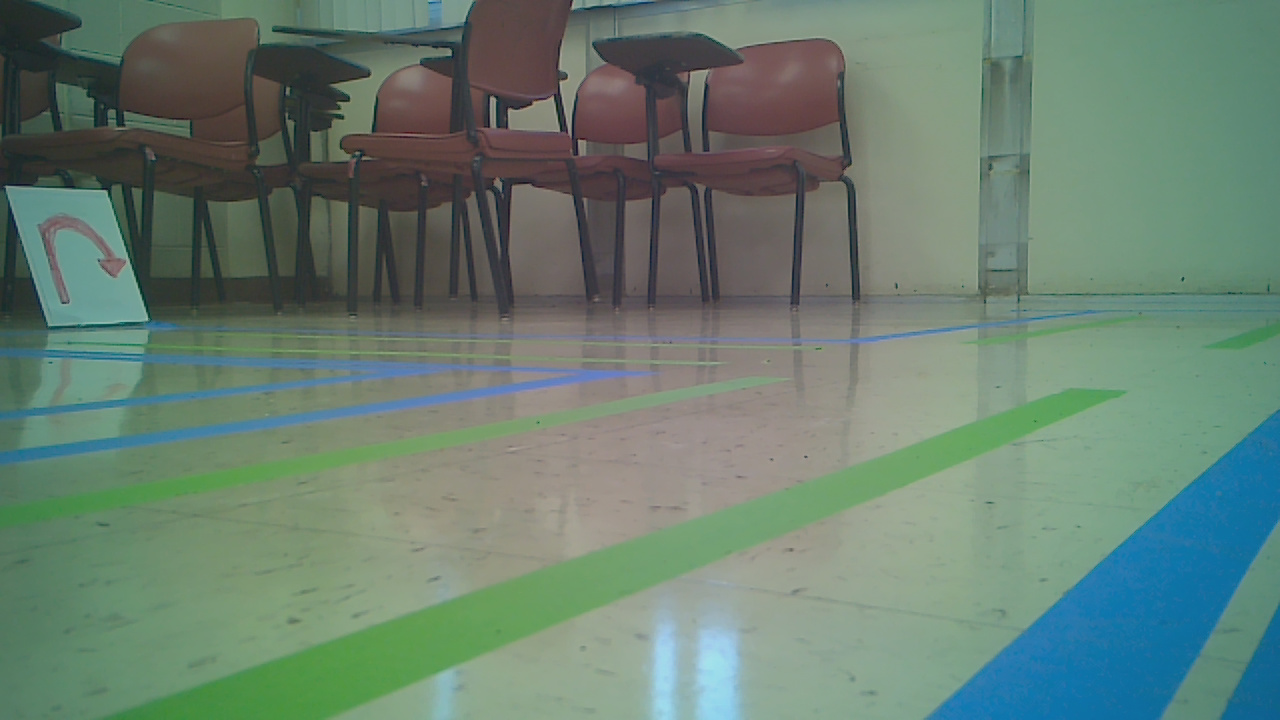greenline: (118, 383, 1112, 720), (19, 376, 780, 527)
uturn: (40, 203, 130, 324)
